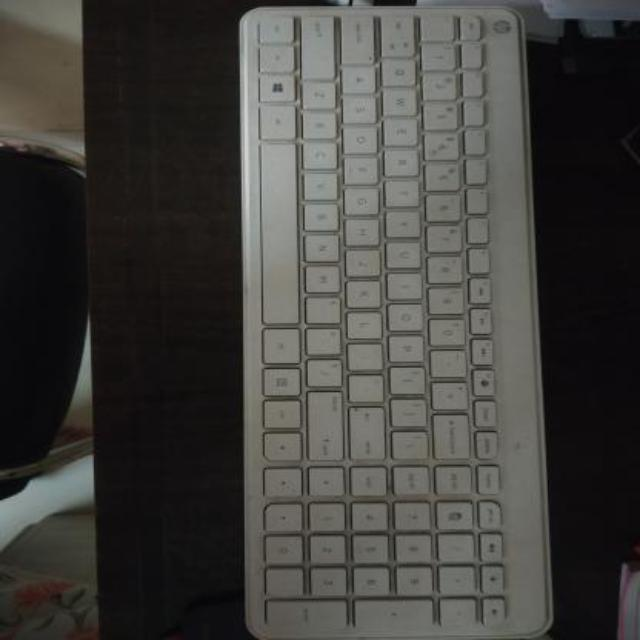Computer-Keyboard: (235, 6, 552, 640)
